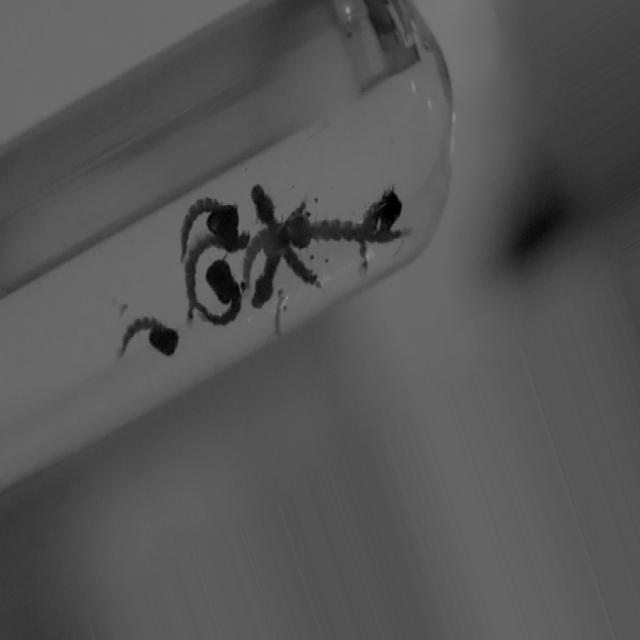larvas: (249, 178, 321, 295), (186, 228, 248, 319), (348, 178, 404, 271), (284, 218, 409, 249), (176, 190, 236, 237), (197, 262, 240, 325), (239, 225, 271, 296), (123, 316, 175, 356), (252, 250, 283, 314), (276, 285, 285, 335)
